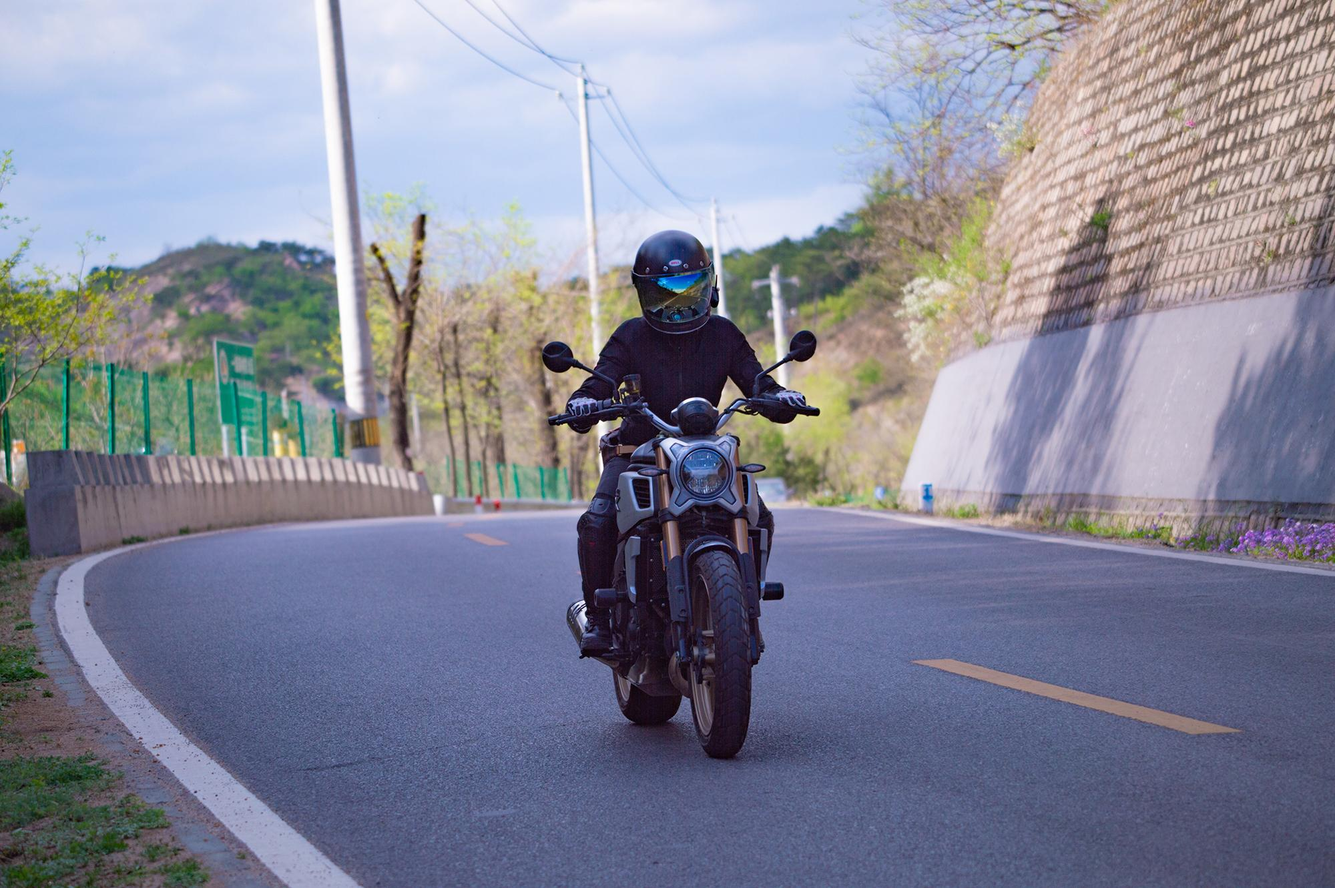helmet: (630, 229, 720, 335)
